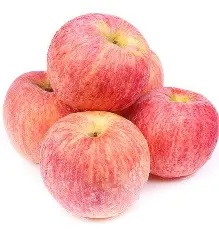ripe_apple: (37, 108, 150, 221), (45, 11, 163, 113), (133, 86, 219, 181), (3, 71, 69, 169)
